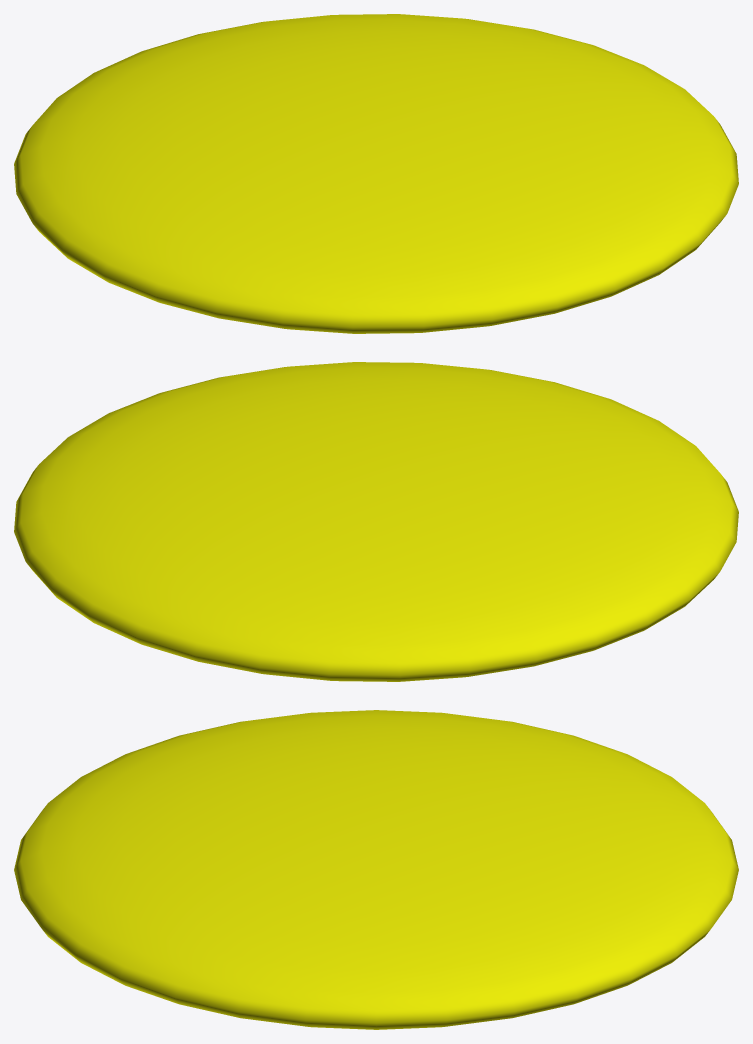
File: puzzle_ball_active.fbx
The picture shows the model from 3 angles, top to bottom: view 1: azimuth 30°, elevation 25°; view 2: azimuth 150°, elevation 25°; view 3: azimuth 270°, elevation 25°; orthographic projection.
Parts seen in each view (by area): view 1: Sphere; view 2: Sphere; view 3: Sphere.
Boxes of the visible parts, x1=… form: Sphere: x1=14, y1=14, x2=738, y2=333; Sphere: x1=14, y1=362, x2=738, y2=681; Sphere: x1=14, y1=710, x2=738, y2=1029.
Size of the model in its own units: 200 by 29.29 by 200.
